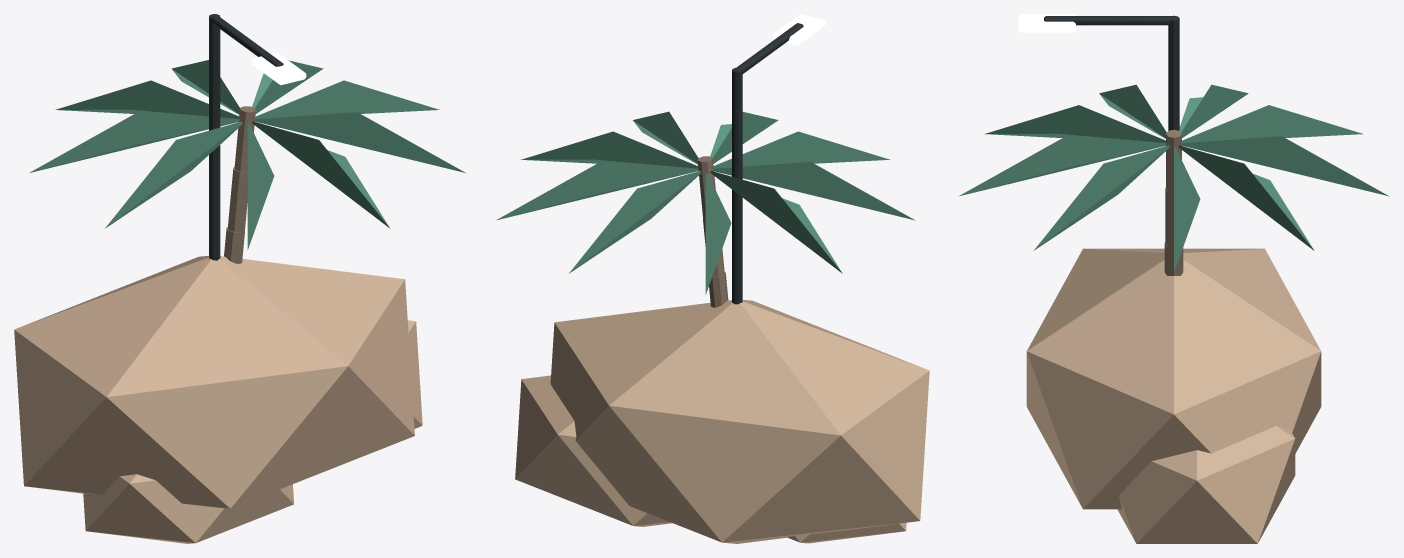
Rendered from props.glb.
3 views of the same model, side by side, from view 1: azimuth 30°, elevation 25°; view 2: azimuth 150°, elevation 25°; view 3: azimuth 270°, elevation 25° (orthographic). The views are drawn at different scales.
Visible parts, largest first — view 1: Stone, Stone.002, Frond.008, Frond.004, Frond, Frond.003, Frond.005, Frond.007, Lamp_pole, Frond.006, Frond.002, Frond.001 (+6 smaller); view 2: Stone, Stone.001, Frond.001, Frond.005, Frond, Frond.006, Frond.002, Frond.004, Lamp_pole, Frond.003, Frond.008, Frond.007 (+5 smaller); view 3: Stone, Stone.001, Frond.002, Frond.007, Frond.003, Frond.006, Frond.008, Frond.001, Frond, Frond.004, Frond.005, Lamp_pole (+3 smaller).
Boxes of the visible parts, left/top/right/bottom form: Stone: left=14, top=256, right=414, bottom=508; Stone.002: left=83, top=474, right=293, bottom=543; Frond.008: left=255, top=112, right=465, bottom=172; Frond.004: left=29, top=112, right=239, bottom=172; Frond: left=255, top=80, right=439, bottom=119; Frond.003: left=55, top=80, right=239, bottom=119; Frond.005: left=105, top=121, right=243, bottom=228; Frond.007: left=252, top=121, right=390, bottom=228; Lamp_pole: left=209, top=14, right=220, bottom=260; Frond.006: left=247, top=124, right=274, bottom=249; Frond.002: left=172, top=60, right=239, bottom=114; Frond.001: left=252, top=60, right=323, bottom=113; Stone: left=550, top=300, right=929, bottom=543; Stone.001: left=515, top=375, right=672, bottom=526; Frond.001: left=496, top=162, right=698, bottom=220; Frond.005: left=713, top=162, right=915, bottom=220; Frond: left=521, top=131, right=698, bottom=168; Frond.006: left=713, top=131, right=890, bottom=168; Frond.002: left=569, top=170, right=701, bottom=273; Frond.004: left=710, top=171, right=842, bottom=273; Lamp_pole: left=732, top=68, right=742, bottom=304; Frond.003: left=705, top=173, right=731, bottom=294; Frond.008: left=633, top=111, right=698, bottom=164; Frond.007: left=710, top=112, right=778, bottom=163; Stone: left=1026, top=248, right=1321, bottom=509; Stone.001: left=1117, top=426, right=1295, bottom=543; Frond.002: left=1181, top=136, right=1389, bottom=196; Frond.007: left=958, top=136, right=1166, bottom=196; Frond.003: left=1182, top=105, right=1362, bottom=143; Frond.006: left=985, top=105, right=1165, bottom=143; Frond.008: left=1033, top=145, right=1169, bottom=250; Frond.001: left=1178, top=145, right=1314, bottom=250; Frond: left=1174, top=147, right=1200, bottom=272; Frond.004: left=1179, top=84, right=1248, bottom=137; Frond.005: left=1099, top=84, right=1166, bottom=138; Lamp_pole: left=1168, top=15, right=1179, bottom=130.
Size of the model in its own units: 8.21 by 9.4 by 7.48.
